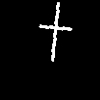single_crochet: (39, 2, 71, 60)
